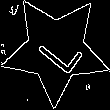L_NW: (27, 22, 84, 78)
